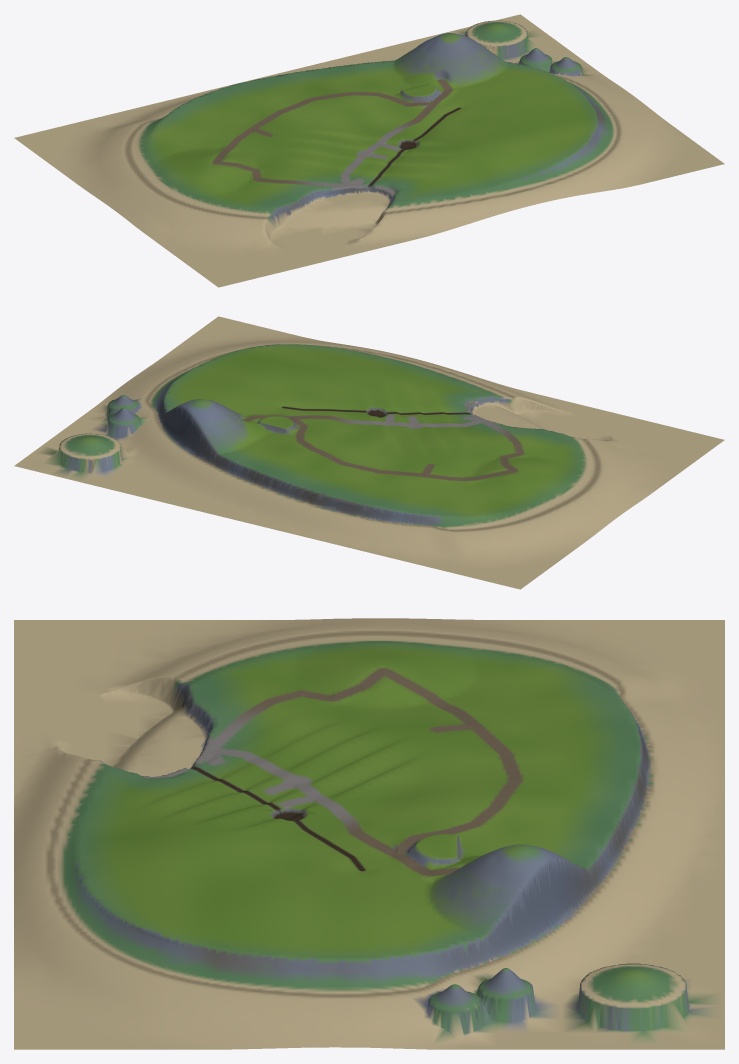
File: terrain.glb
3 views of the same model, one above another, from view 1: azimuth 30°, elevation 25°; view 2: azimuth 150°, elevation 25°; view 3: azimuth 270°, elevation 25° (orthographic). The views are drawn at different scales.
Visible parts, largest first — view 1: isl_terrain; view 2: isl_terrain; view 3: isl_terrain.
Boxes of the visible parts, x1,y1,x2,y2 form: isl_terrain: (14, 14, 724, 287); isl_terrain: (14, 316, 724, 589); isl_terrain: (14, 618, 724, 1049).
Size of the model in its own units: 599 by 59.8 by 419.
